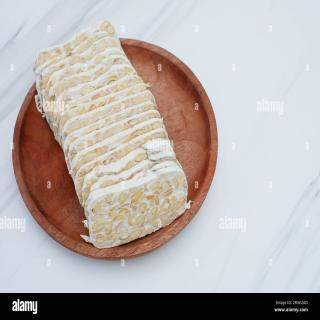Tempe: (82, 160, 194, 250)
